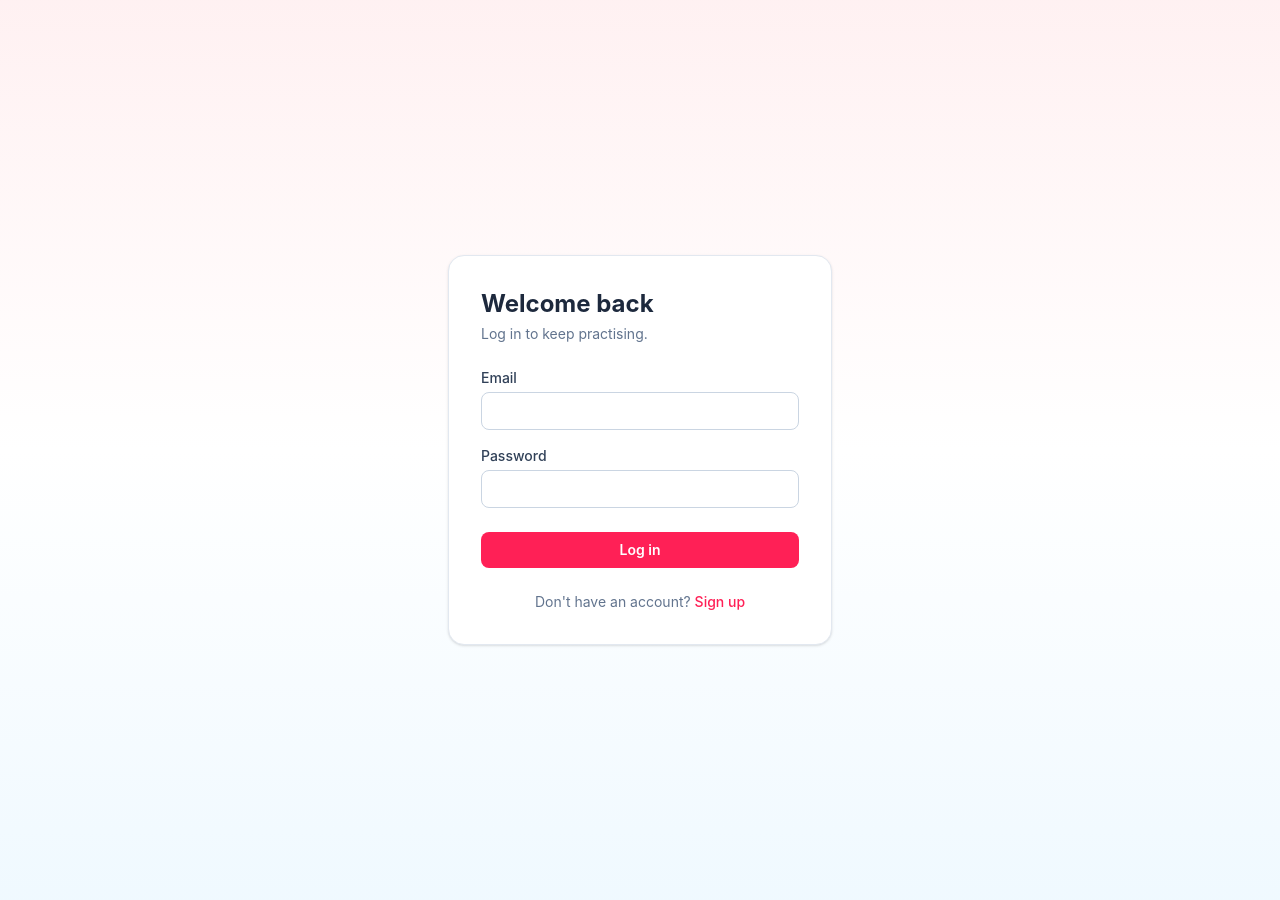
LoginPage › shows an error message when login fails
Type "test@example.com" into the field labelled "Email" at (640, 411), box [481, 392, 799, 430]
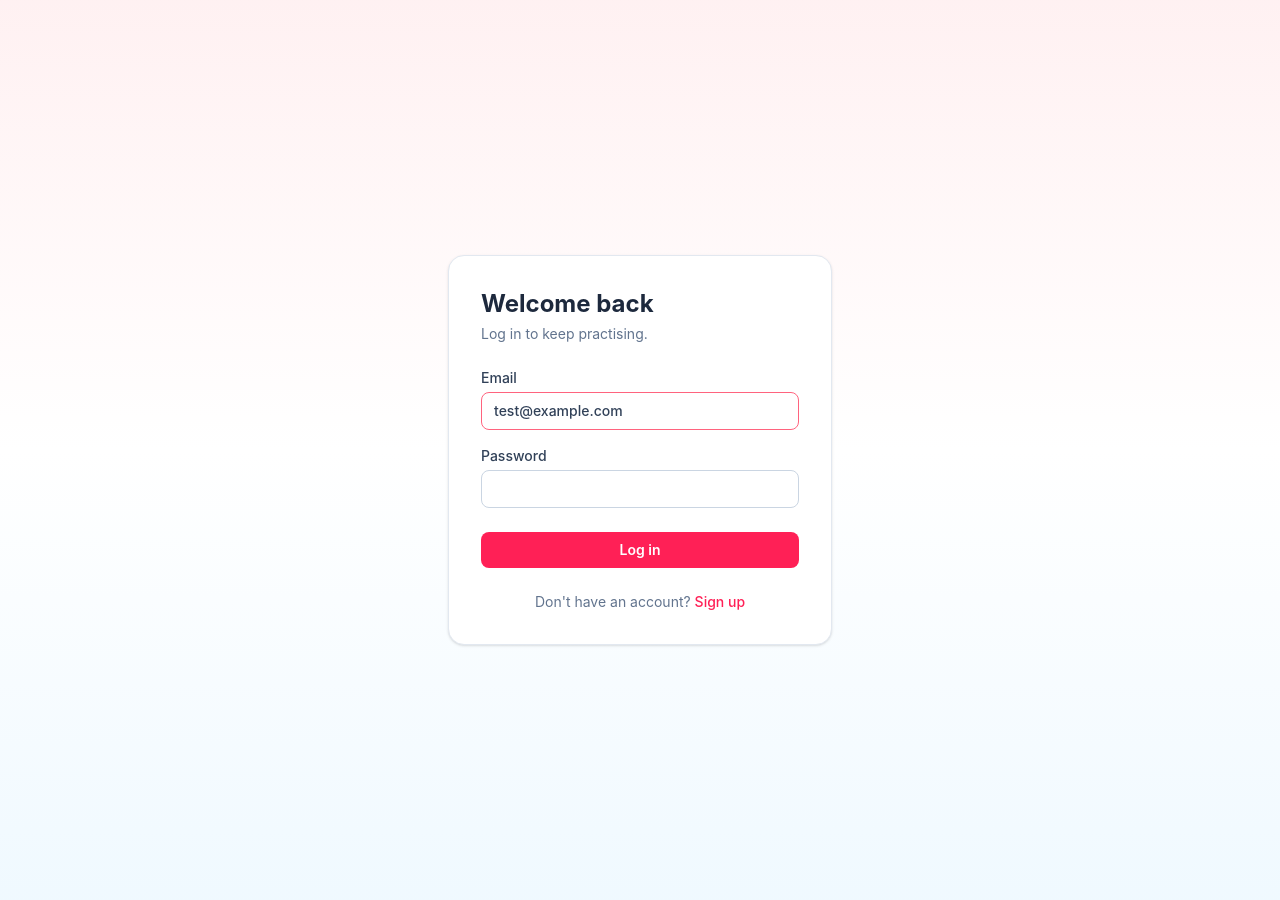
Type "wrongpassword" into the password field labelled "Password" at (640, 489), box [481, 470, 799, 508]
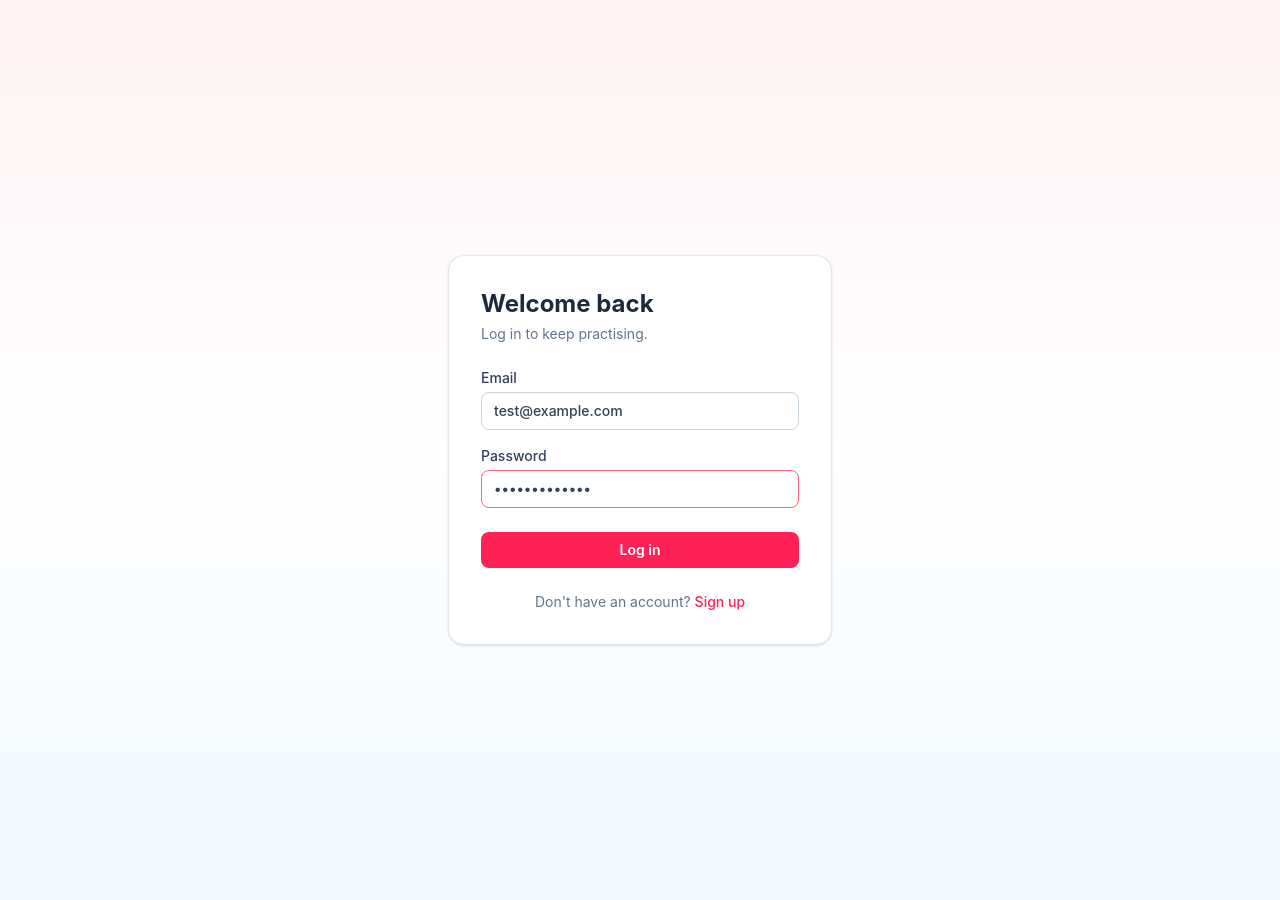
Click the button "Log in" at (640, 550), box [481, 532, 799, 568]
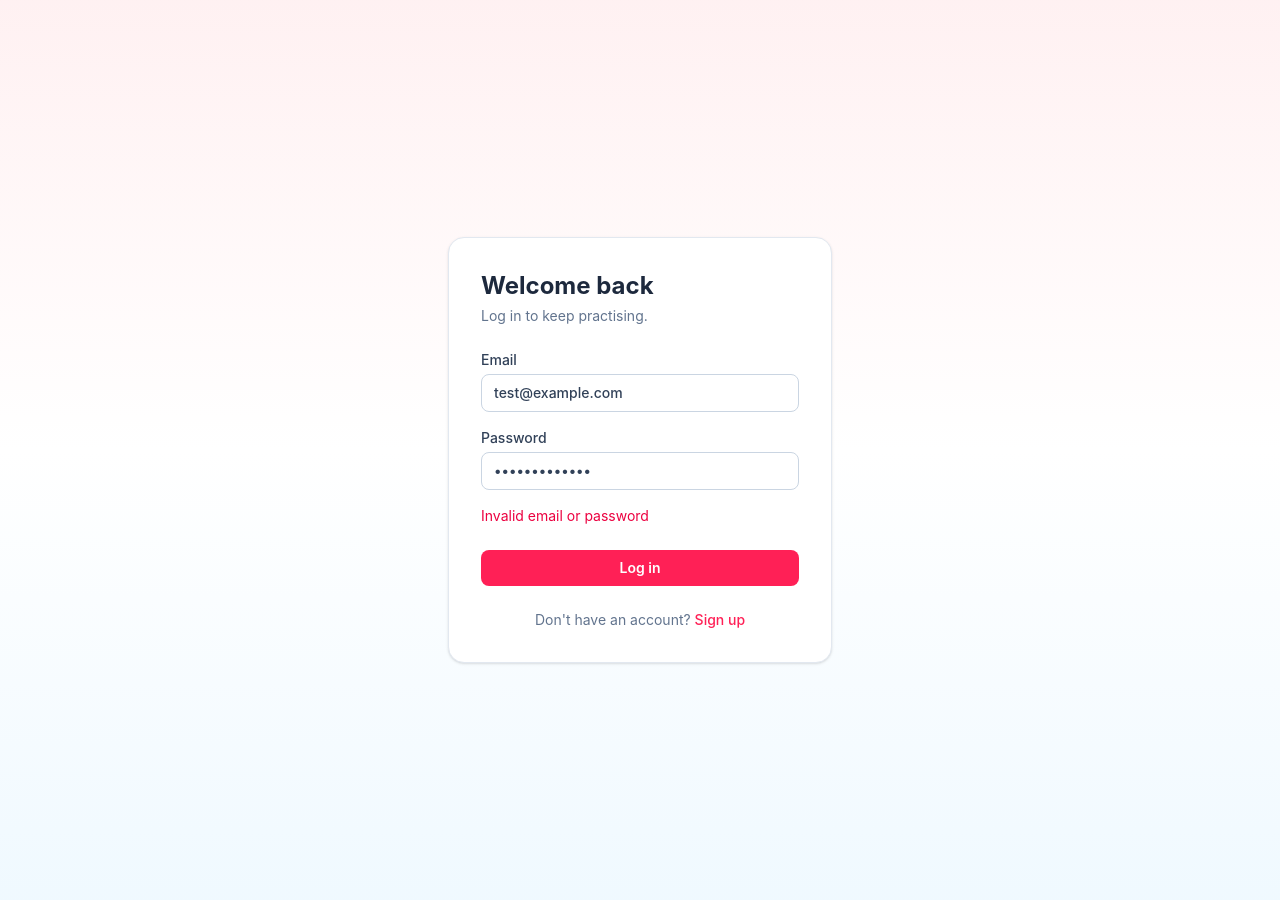
expect the text "Invalid email or password" is shown: met, box [481, 507, 649, 524]
